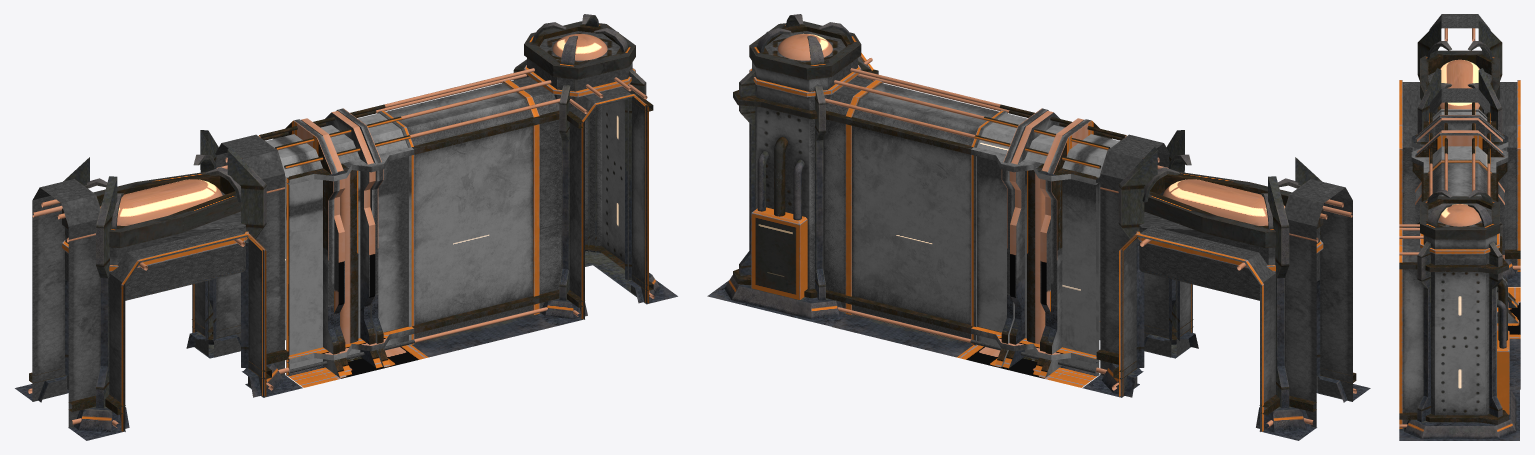
Rendered from duvar_3.fbx.
3 views of the same model, side by side, from view 1: azimuth 30°, elevation 25°; view 2: azimuth 150°, elevation 25°; view 3: azimuth 270°, elevation 25° (orthographic). The views are drawn at different scales.
Visible parts, largest first — view 1: wall_base_low.001, wall_base02_bot_cable_low.001, wall_corner_big_pipe_low.001, wall_cross_wall_base_02_low.002, wall_cross_wall_base_02_low.003, wall_cross_wall_base_02_low.001; view 2: wall_base_low.001, wall_base02_bot_cable_low.001, wall_corner_big_pipe_low.001, wall_cross_wall_base_02_low.002, wall_cross_wall_base_02_low.003, wall_cross_wall_base_02_low.001; view 3: wall_corner_big_pipe_low.001, wall_base_low.001, wall_cross_wall_base_02_low.003, wall_cross_wall_base_02_low.001, wall_base02_bot_cable_low.001, wall_cross_wall_base_02_low.002.
Part boxes in pixels (x1=…): wall_base_low.001: x1=259, y1=104, x2=428, y2=387; wall_base02_bot_cable_low.001: x1=376, y1=74, x2=552, y2=357; wall_corner_big_pipe_low.001: x1=501, y1=14, x2=677, y2=326; wall_cross_wall_base_02_low.002: x1=15, y1=157, x2=140, y2=440; wall_cross_wall_base_02_low.003: x1=186, y1=130, x2=302, y2=397; wall_cross_wall_base_02_low.001: x1=84, y1=172, x2=265, y2=300; wall_base_low.001: x1=957, y1=104, x2=1126, y2=387; wall_base02_bot_cable_low.001: x1=832, y1=74, x2=1009, y2=357; wall_corner_big_pipe_low.001: x1=707, y1=14, x2=884, y2=326; wall_cross_wall_base_02_low.002: x1=1256, y1=157, x2=1370, y2=440; wall_cross_wall_base_02_low.003: x1=1082, y1=130, x2=1198, y2=397; wall_cross_wall_base_02_low.001: x1=1135, y1=172, x2=1300, y2=300; wall_corner_big_pipe_low.001: x1=1399, y1=190, x2=1519, y2=440; wall_base_low.001: x1=1411, y1=102, x2=1520, y2=338; wall_cross_wall_base_02_low.003: x1=1399, y1=68, x2=1520, y2=286; wall_cross_wall_base_02_low.001: x1=1399, y1=41, x2=1520, y2=148; wall_base02_bot_cable_low.001: x1=1423, y1=153, x2=1520, y2=389; wall_cross_wall_base_02_low.002: x1=1417, y1=14, x2=1502, y2=80.
Size of the model in its own units: 3021 by 1265 by 637.
Materials: 3 (3 with a texture image).
